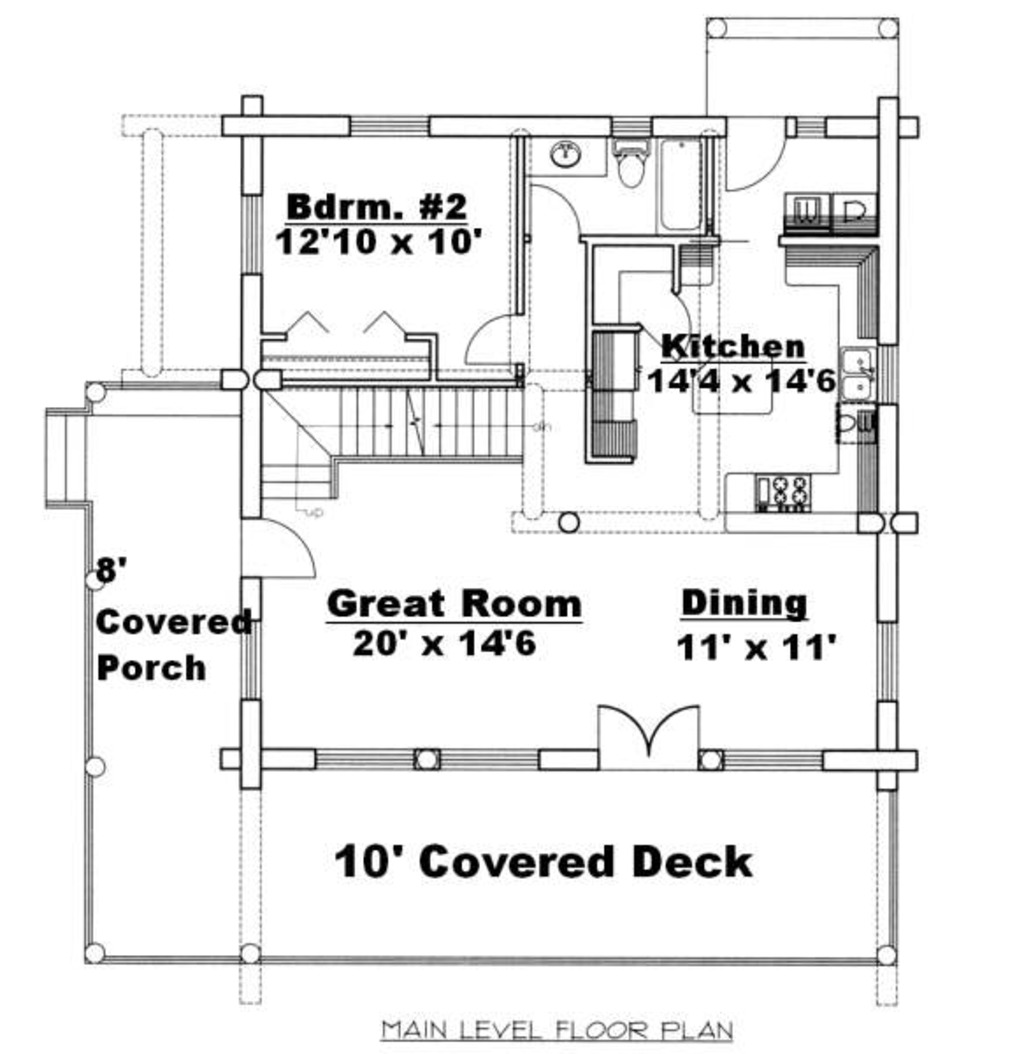door: (581, 698, 717, 772), (228, 516, 328, 592), (715, 106, 792, 193), (455, 303, 538, 375), (520, 180, 596, 247), (637, 287, 700, 367)
large_sink: (605, 125, 655, 198)
small_sink: (530, 134, 591, 180)
stairs: (255, 374, 553, 528)
tub: (663, 129, 705, 231)
twin_sink: (828, 336, 881, 410)
window: (871, 611, 920, 723), (335, 100, 435, 141), (232, 190, 271, 284), (784, 110, 840, 147), (597, 106, 659, 136)
